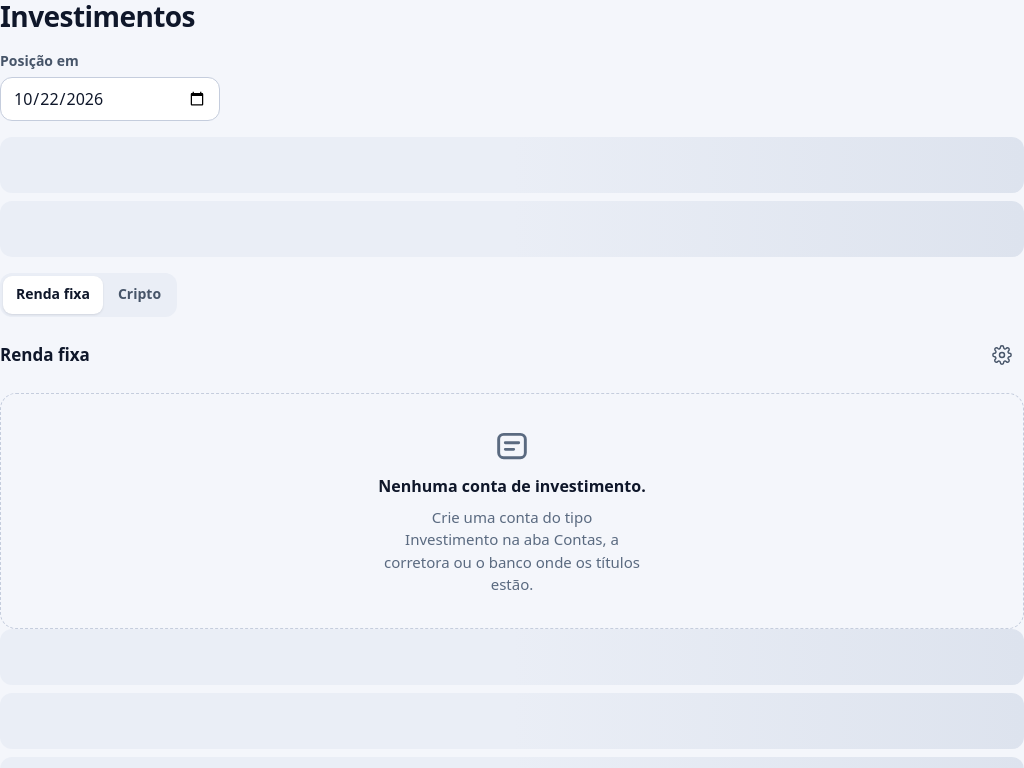
it: cofrinhos na renda fixa › sem cofrinho ativo, explica onde criar
Click the button named "Escolher cofrinhos da renda fixa": (1002, 355) top-left (980, 333), bottom-right (1023, 377)
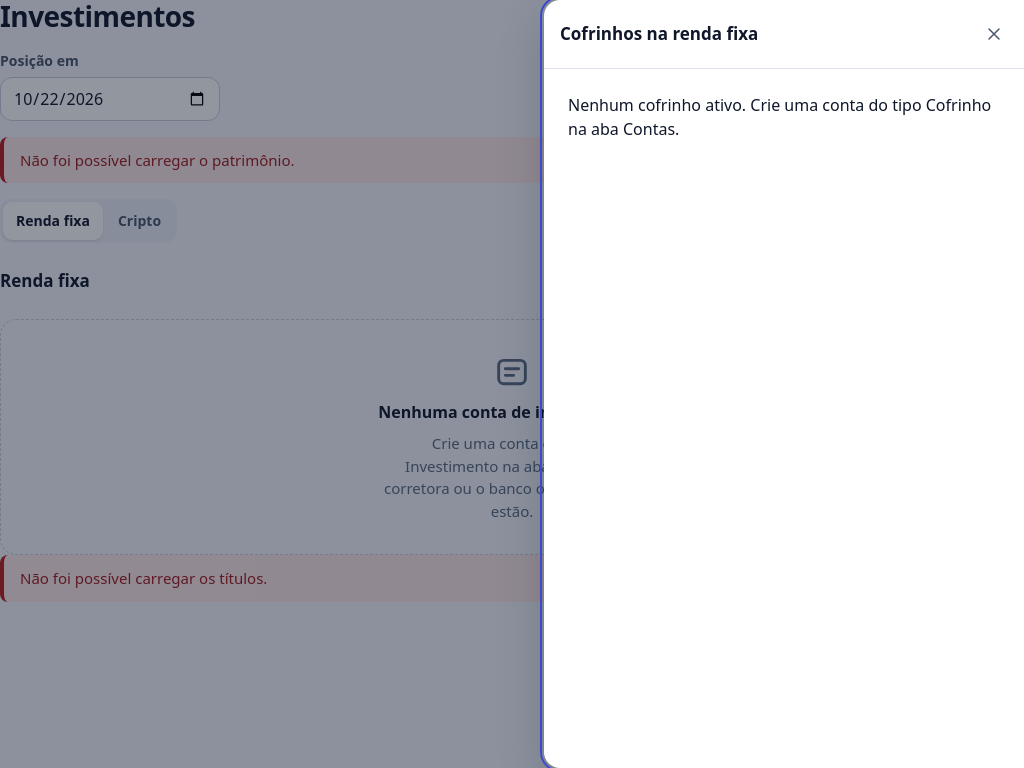
Now the text "Nenhum cofrinho ativo" is shown, box top-left (568, 94), bottom-right (991, 140)
